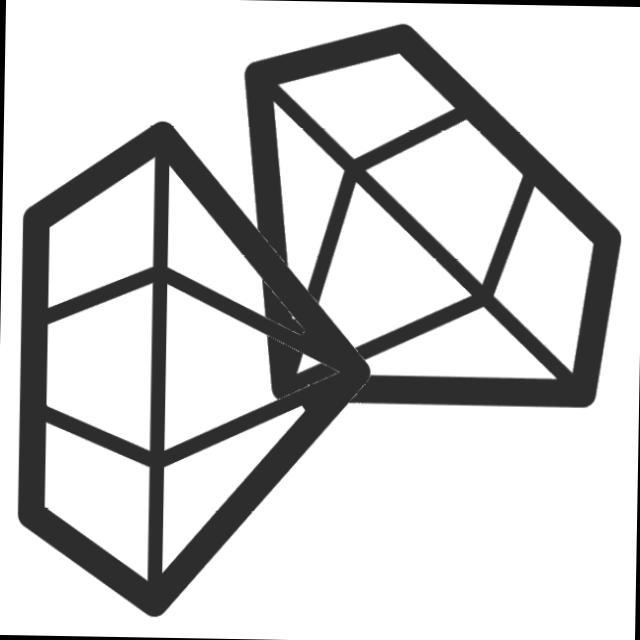diamond: (10, 106, 386, 628), (220, 14, 640, 427)
